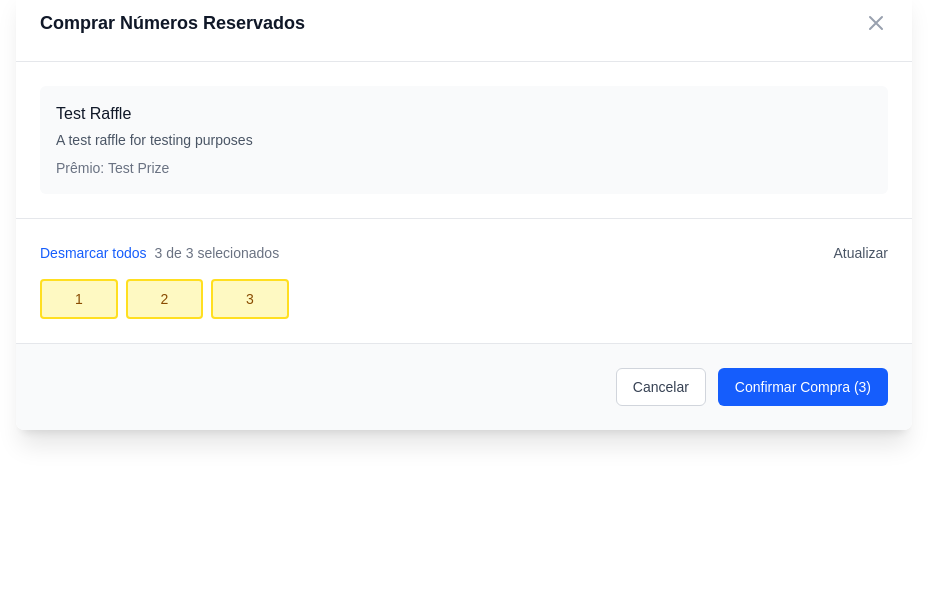
RafflePurchaseModal › should handle partial purchase failure with pre-selected numbers
The image size is (929, 591).
Expected: the button "1" is shown, [40,278,118,318]
// Os números já estão pré-selecionados, apenas confirmar a compra
Step 1. Click the button "Confirmar Compra (3)" → coordinates (803, 386), box [718,368,888,406]
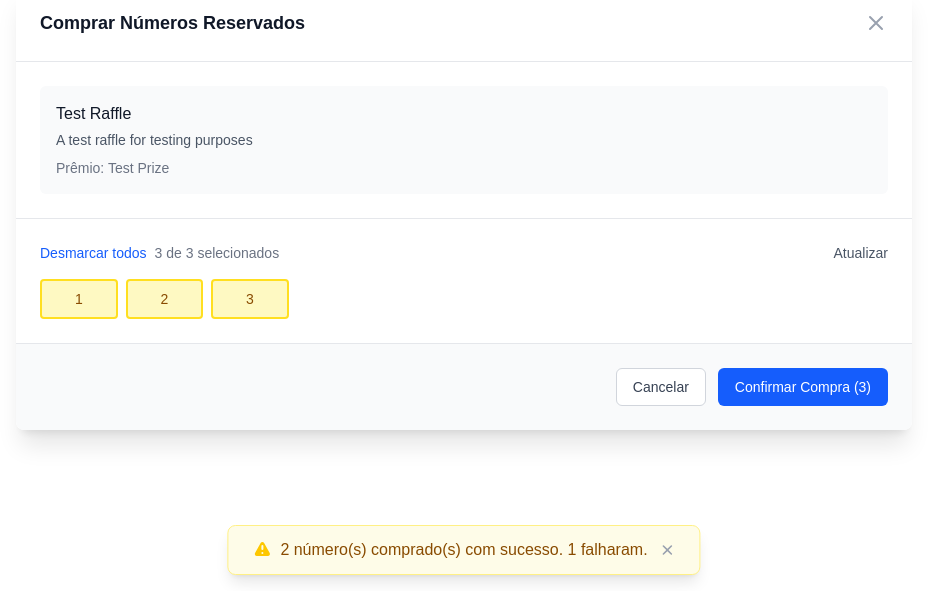
Expected: the text "2 número(s) comprado(s) com sucesso. 1 falharam." is shown, [280,538,648,562]
